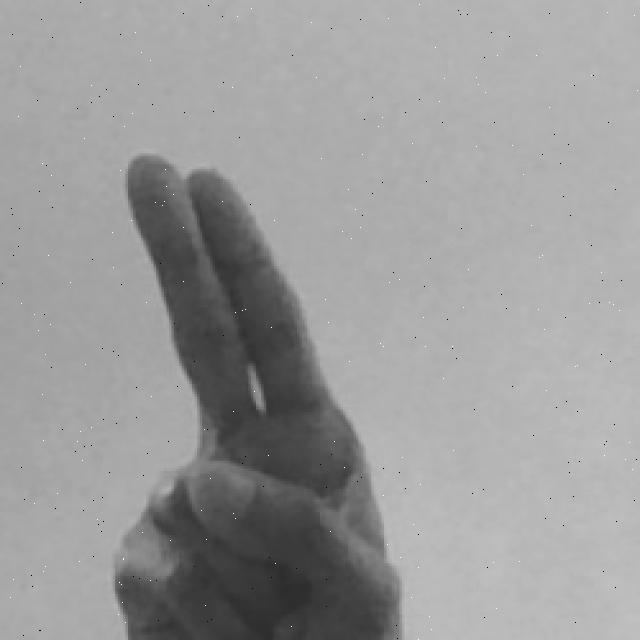U: (106, 150, 408, 640)
